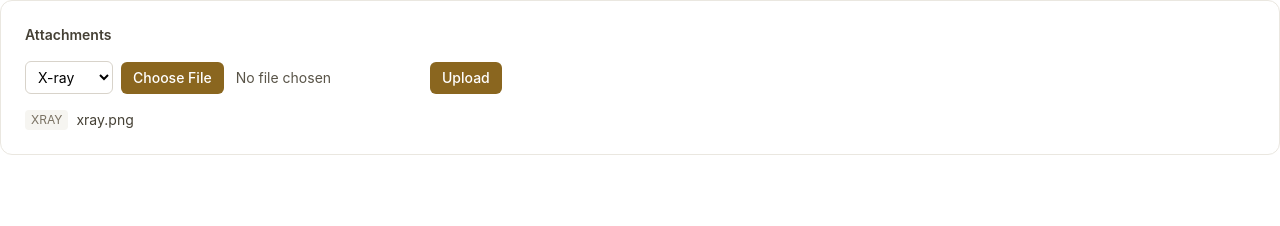
Test case: FileAttachments › says something when Upload is pressed with no file chosen
The width and height of the screenshot is (1280, 226).
Expected: the button "xray xray.png" is shown, [25,110,1255,130]
Click the button "Upload".
click(466, 78)  # box [430,62,502,94]
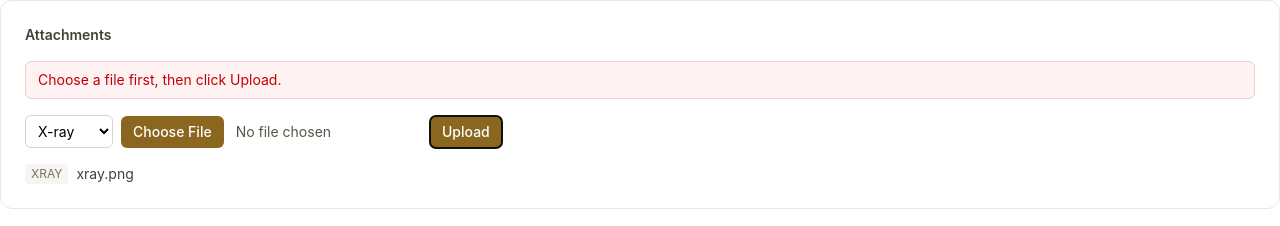
Expected: the message shows "Choose a file first", [38,71,281,88]
